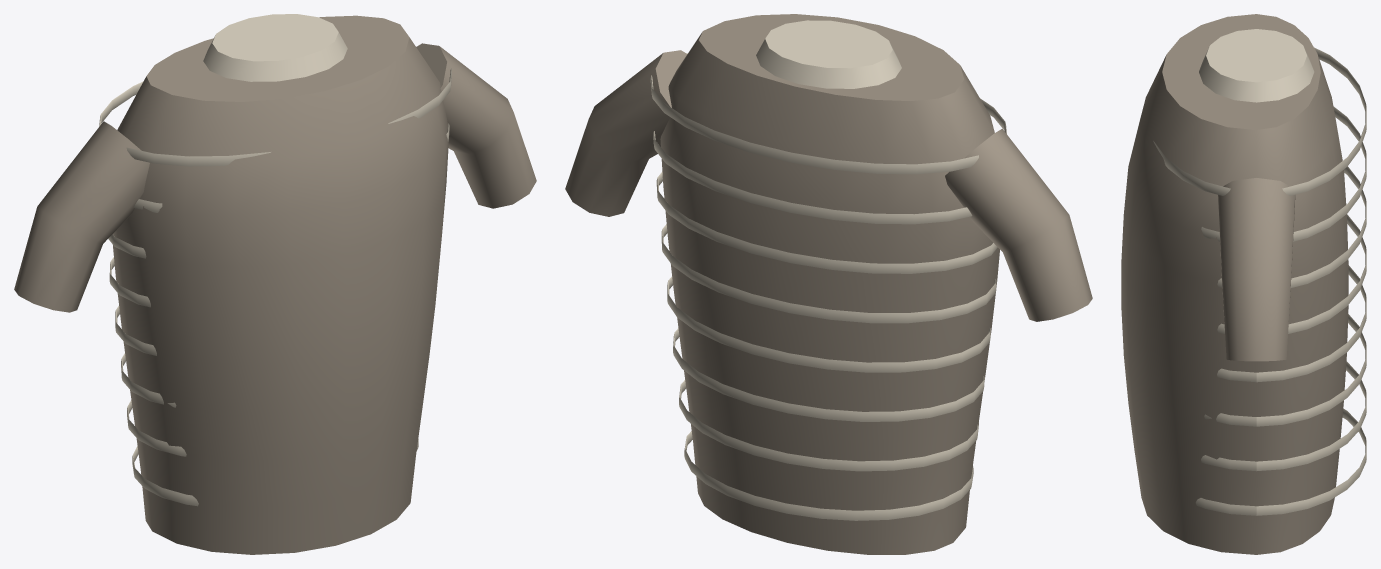
File: padded_gambeson.glb
3 views of the same model, side by side, from view 1: azimuth 30°, elevation 25°; view 2: azimuth 150°, elevation 25°; view 3: azimuth 270°, elevation 25° (orthographic). The views are drawn at different scales.
Visible parts, largest first — view 1: padded_gambeson; view 2: padded_gambeson; view 3: padded_gambeson.
Boxes of the visible parts, x1,y1,x2,y2 form: padded_gambeson: [14, 14, 536, 554]; padded_gambeson: [565, 14, 1092, 554]; padded_gambeson: [1121, 14, 1366, 554].
Bounding box in the file's own units: 0.6255 × 0.54 × 0.2714.
